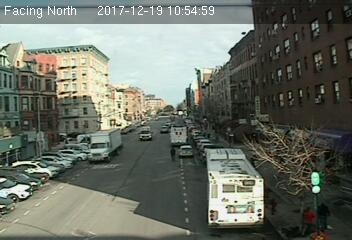bus: (205, 147, 267, 229)
car: (178, 145, 194, 158)
truck: (86, 127, 123, 161), (169, 124, 188, 148)
